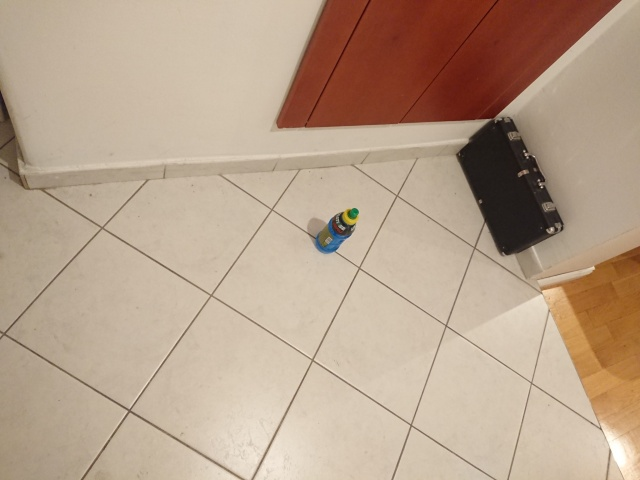Vindi Iso Sport Forest Strawberries 500mL: (315, 206, 359, 253)
